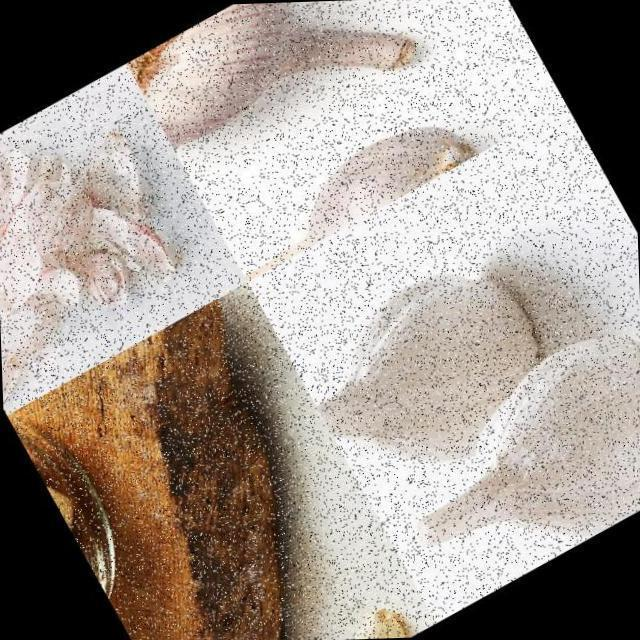garlic: (359, 293, 640, 614), (281, 233, 583, 516), (124, 0, 433, 187), (212, 94, 486, 282), (324, 600, 409, 640)
